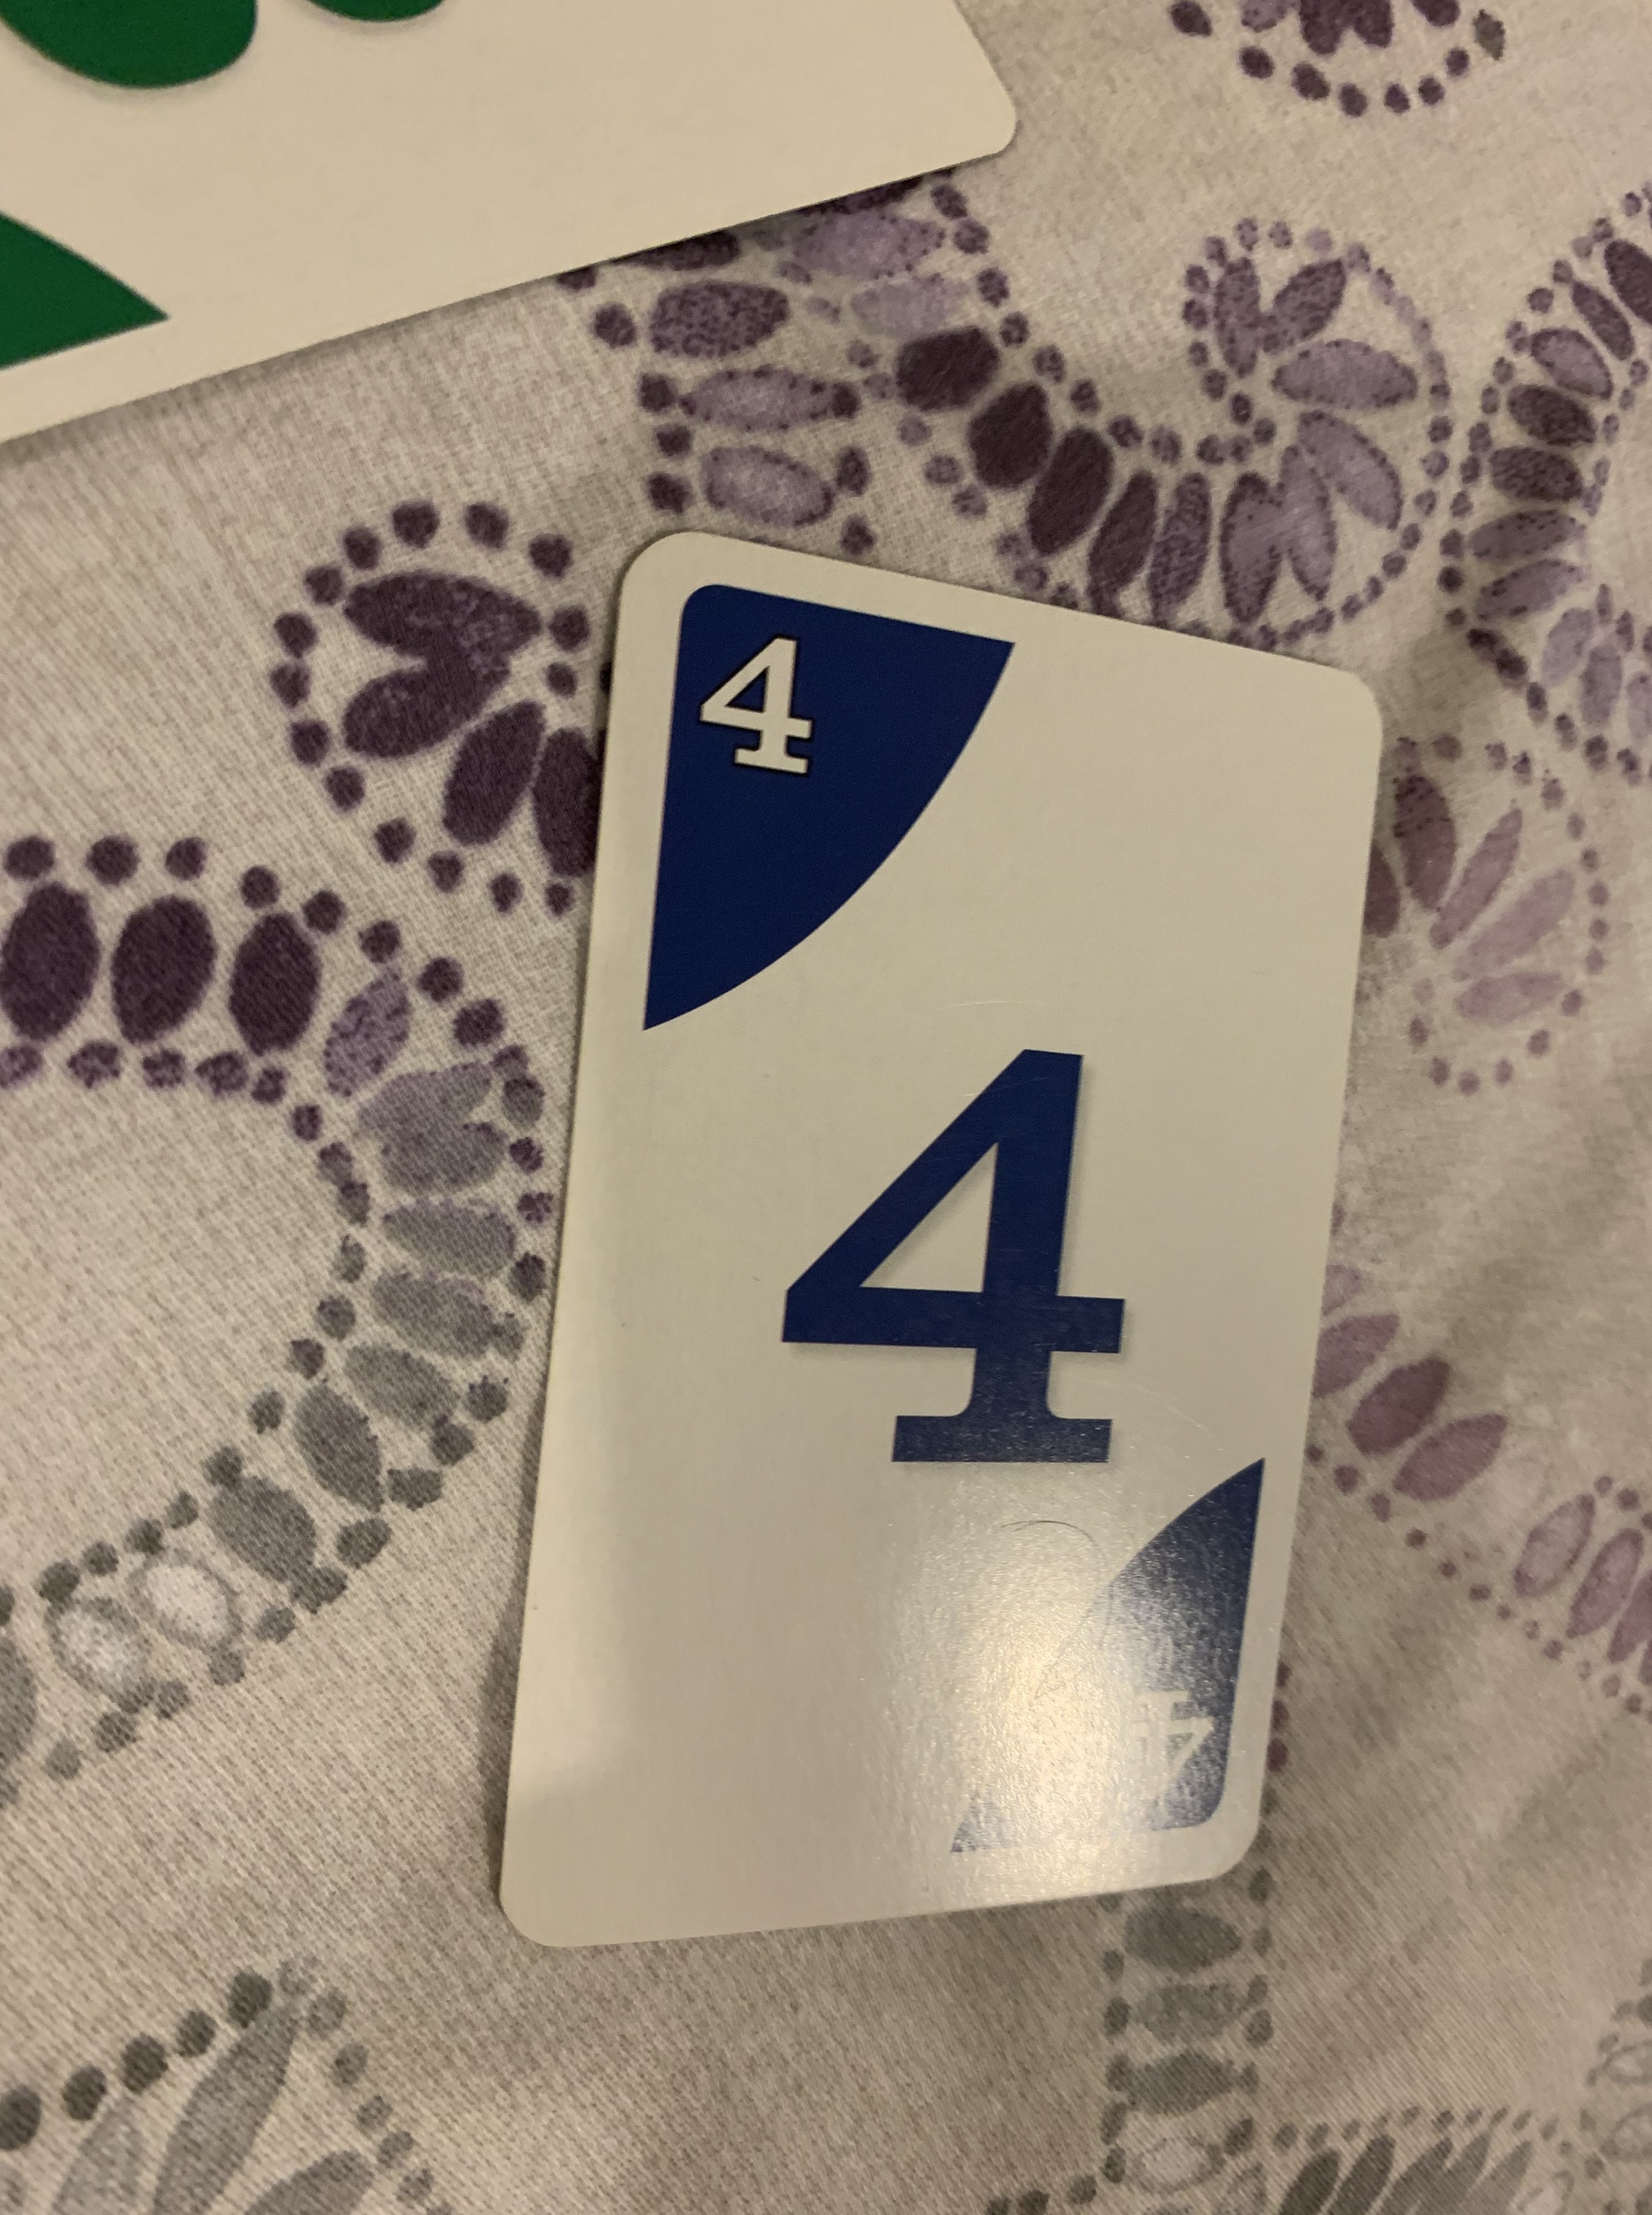four: (489, 528, 1385, 1953)
